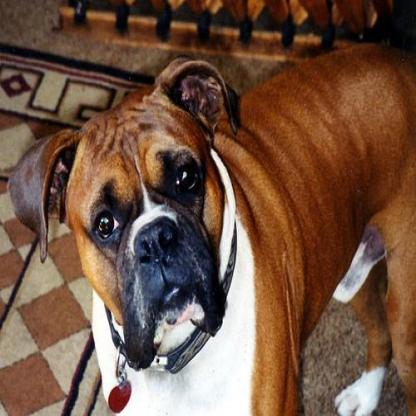boxer: (7, 40, 414, 414)
